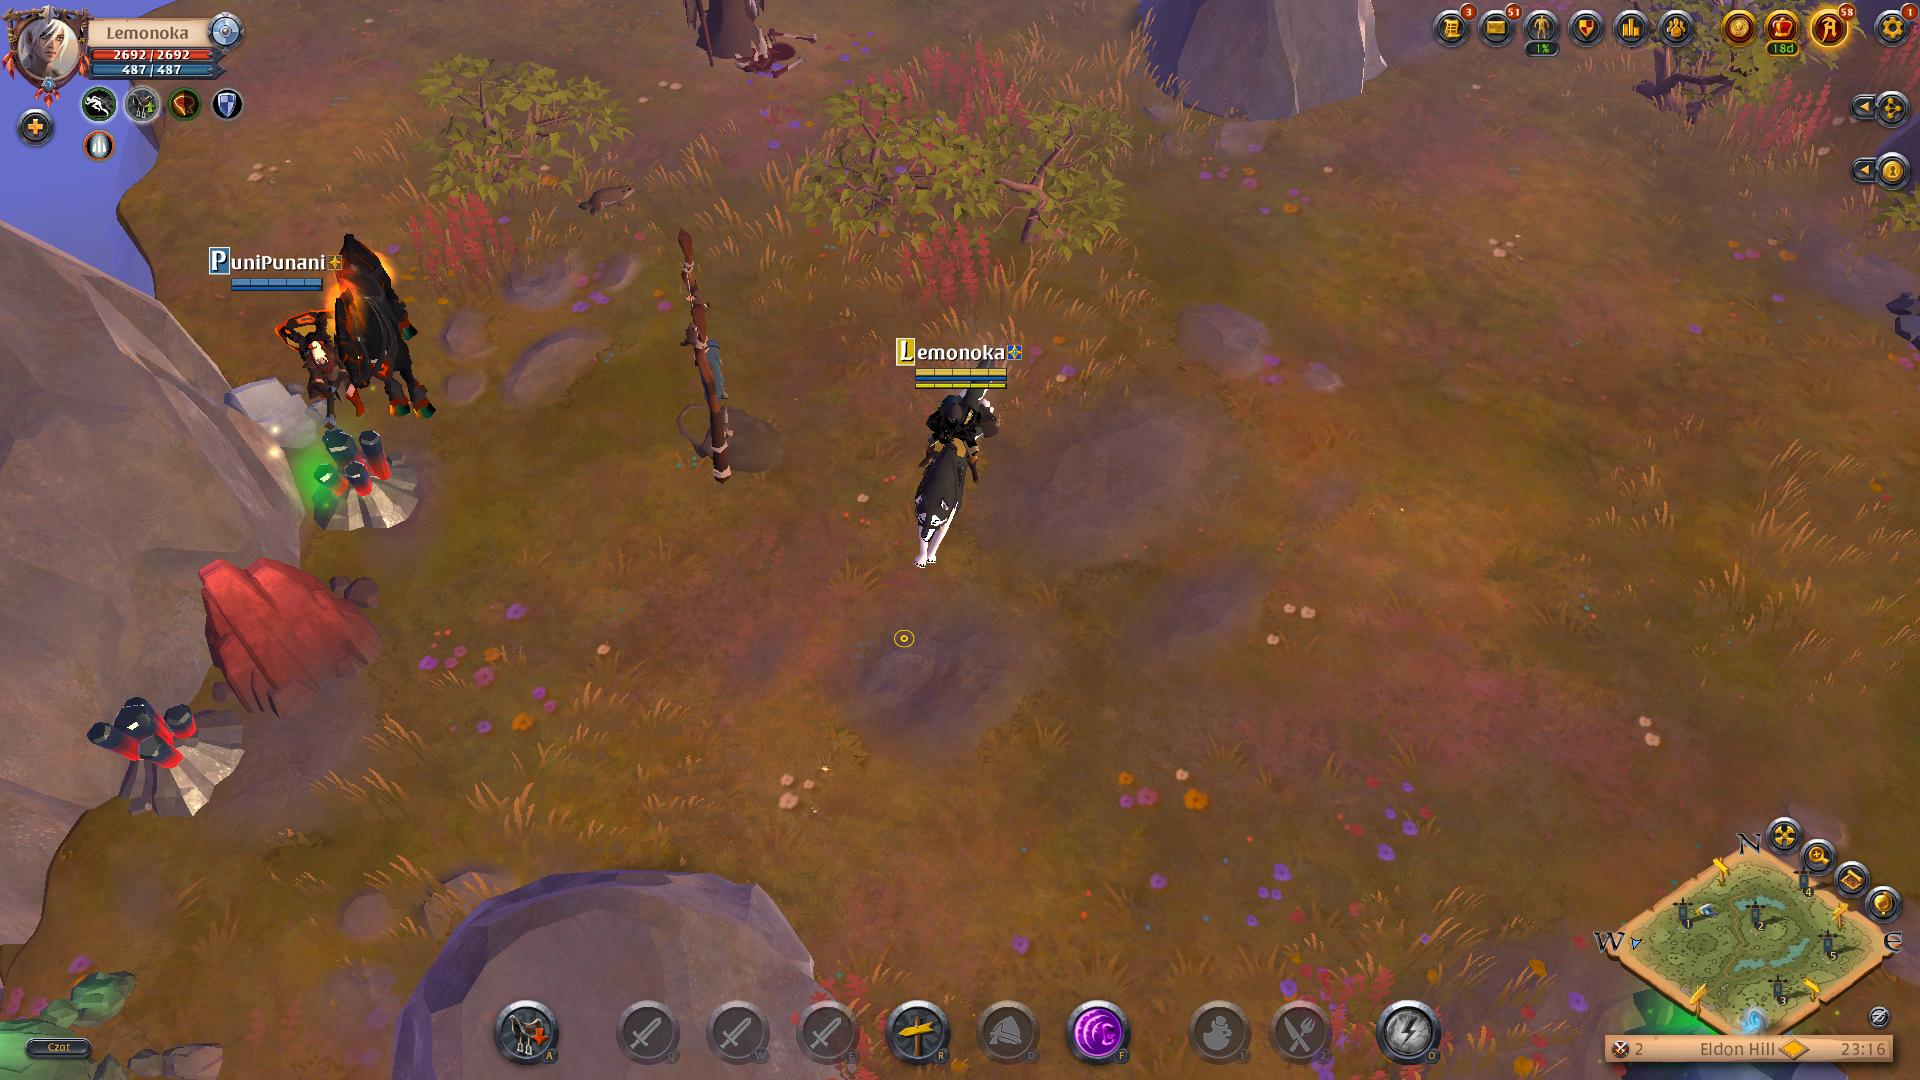ore tier 5: (88, 692, 241, 822), (302, 427, 425, 533)
rock tier 5: (198, 554, 393, 713)
